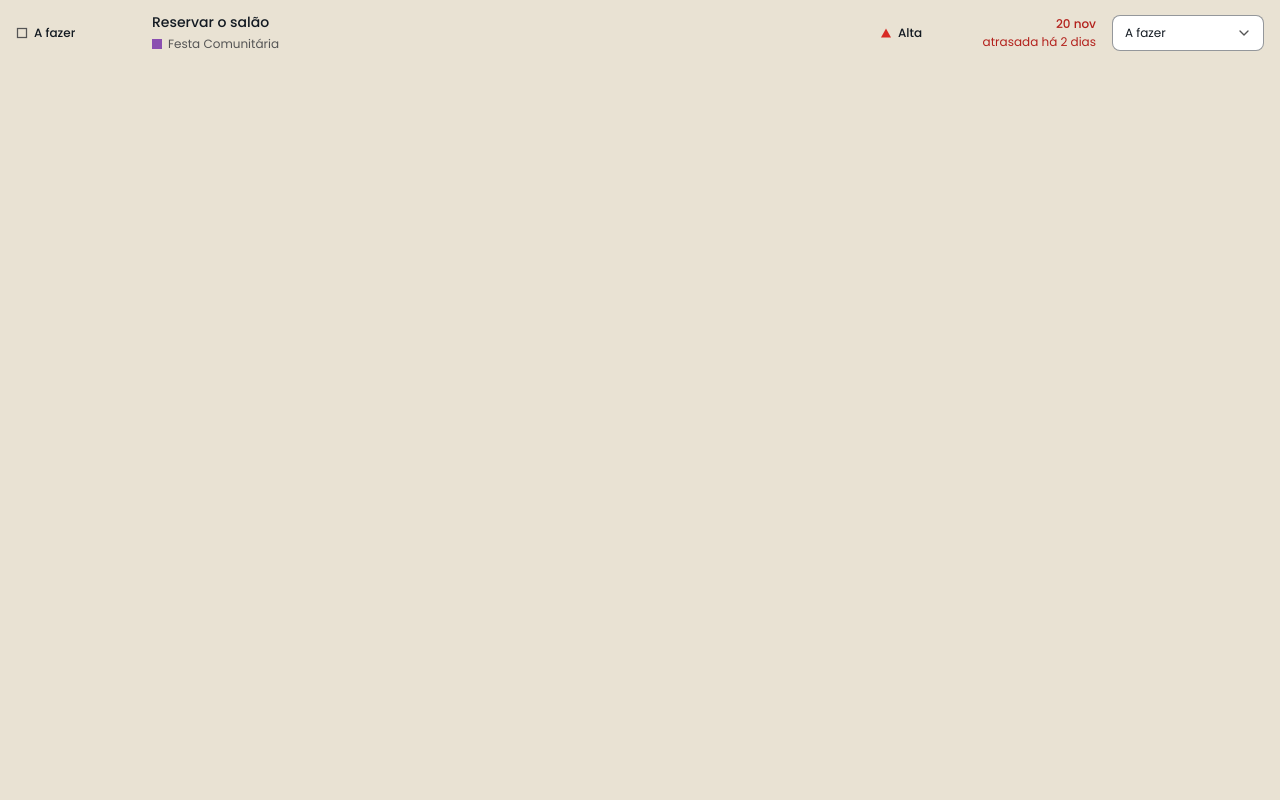
Test: TaskRow › shows an error toast when the API refuses
Select "Concluído" in the dropdown named "Status de Reservar o salão" at (1188, 32), box [1112,14,1264,50]
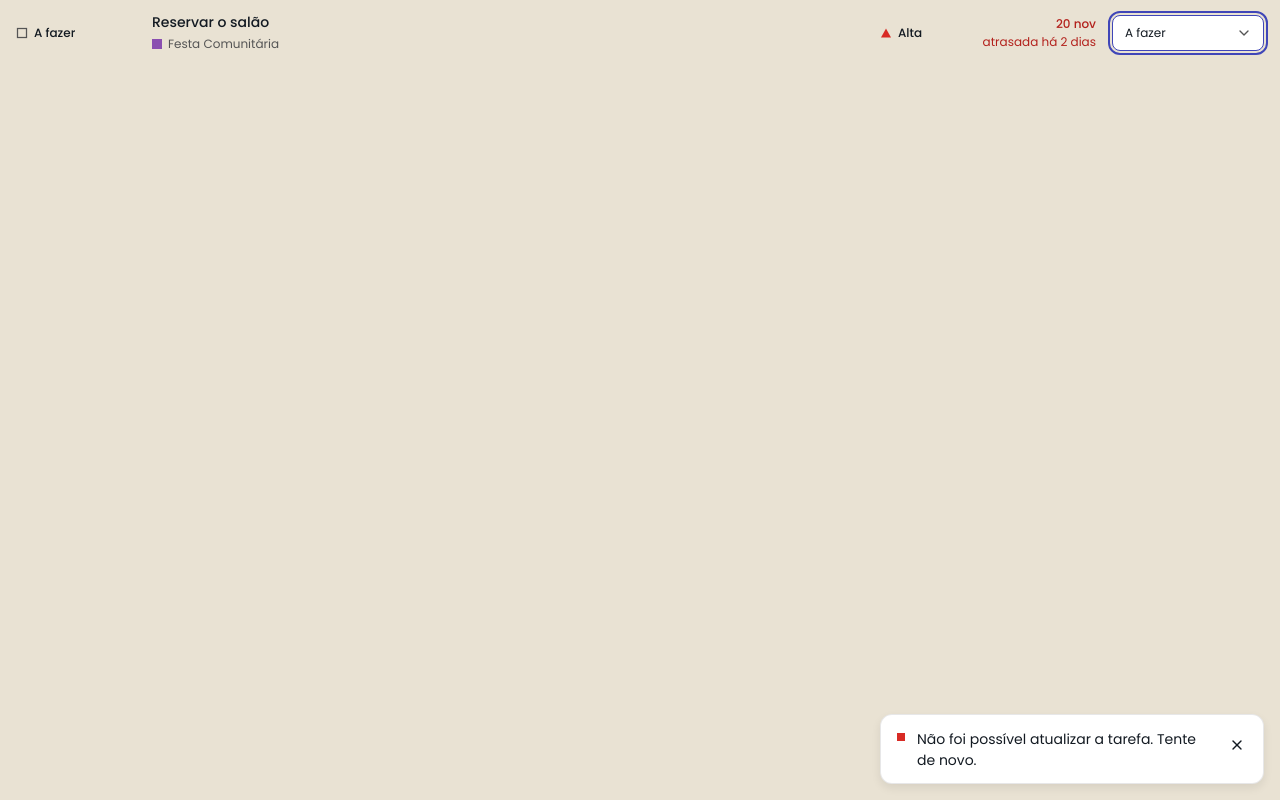
expect the text "Não foi possível atualizar a tarefa. Tente de novo." is shown: met, box [917,727,1207,771]
